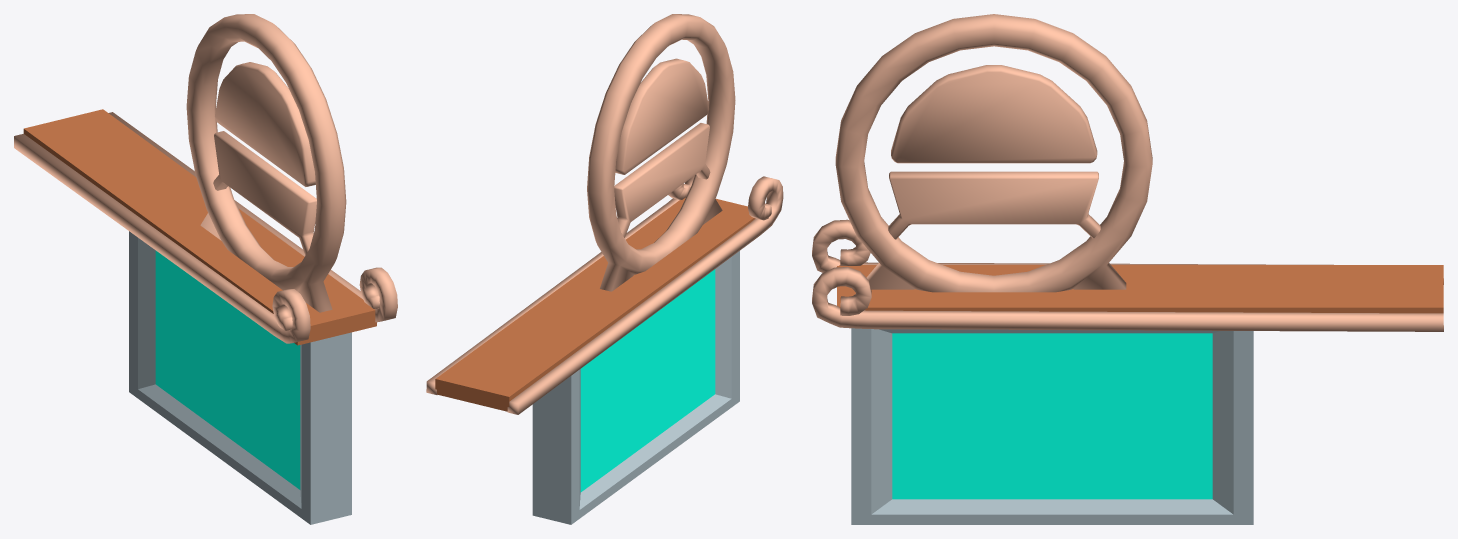
File: schild.glb
The picture shows the model from 3 angles, left to right: view 1: azimuth 30°, elevation 25°; view 2: azimuth 150°, elevation 25°; view 3: azimuth 270°, elevation 25°; orthographic projection. The views are drawn at different scales.
Parts seen in each view (by area): view 1: schild; view 2: schild; view 3: schild.
Part boxes in pixels (x1,y1,x2,y2): schild: [14, 14, 397, 524]; schild: [426, 14, 783, 524]; schild: [812, 14, 1443, 524].
Bounding box in the file's own units: 0.3024 × 1.31 × 1.51.
